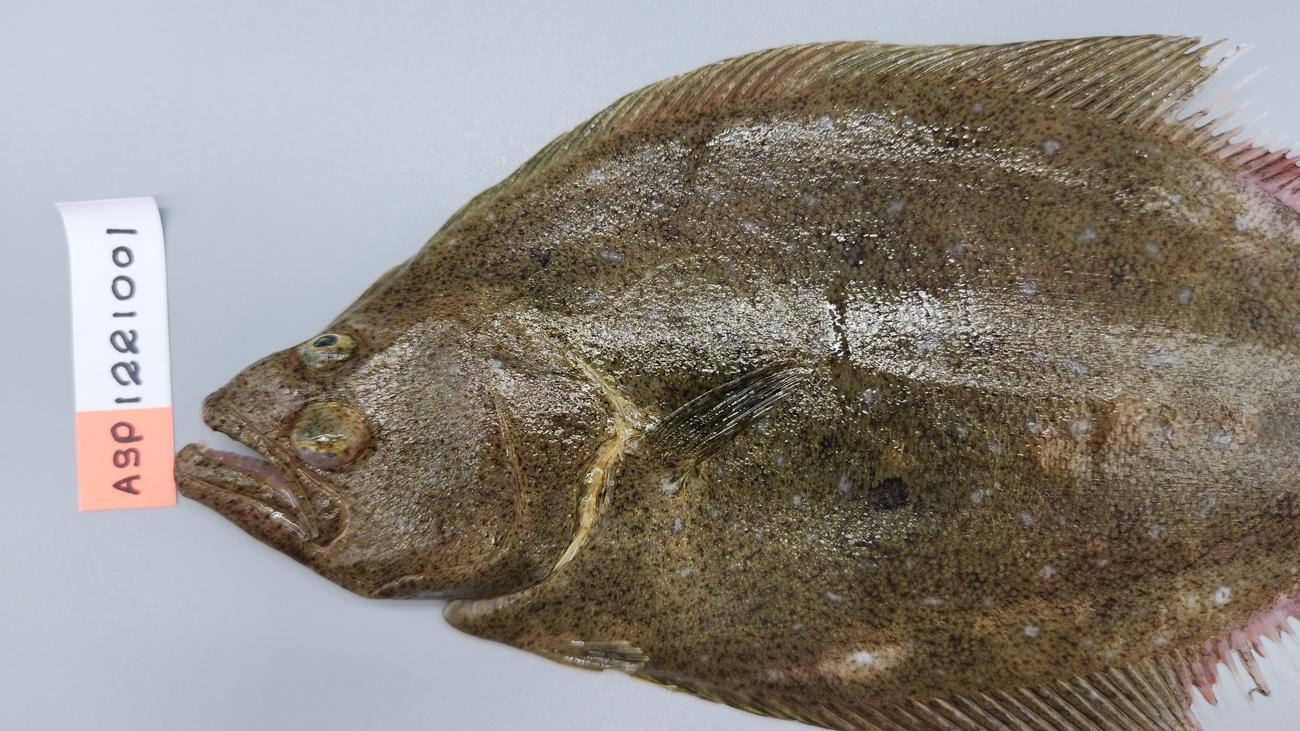SPDYH: (1016, 378, 1279, 484), (737, 617, 956, 693)
SPEYB: (289, 329, 376, 471)
SPFAH: (1119, 595, 1299, 730)
